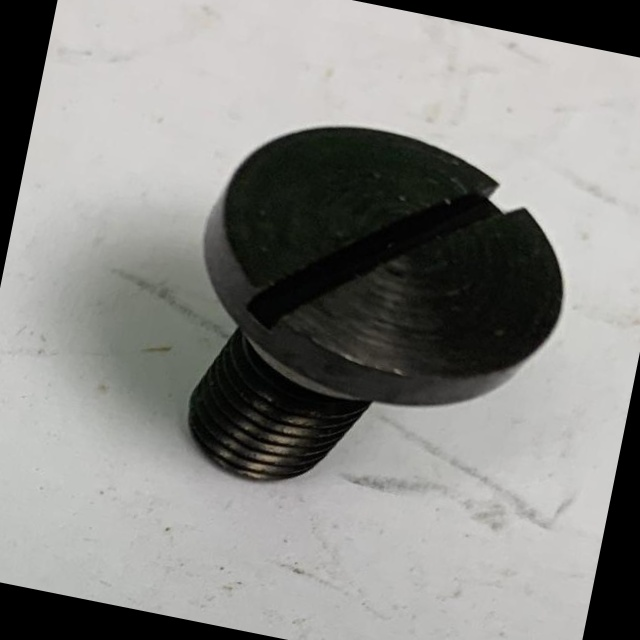duz: (185, 100, 592, 431)
